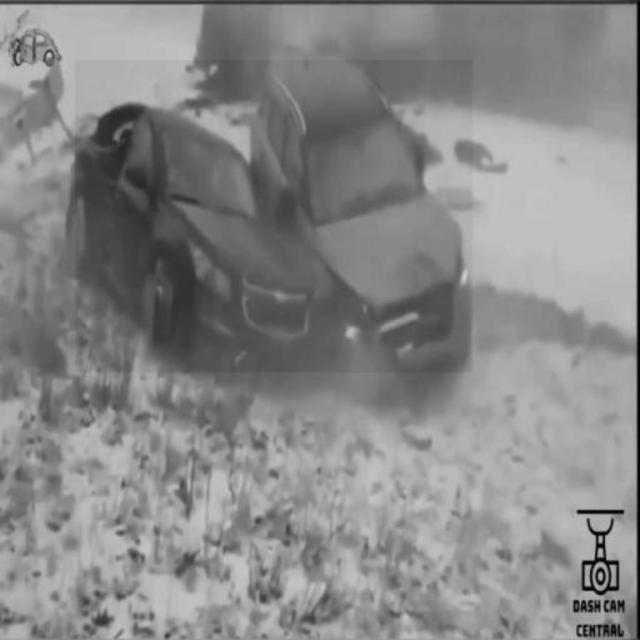accident: (76, 60, 473, 372)
